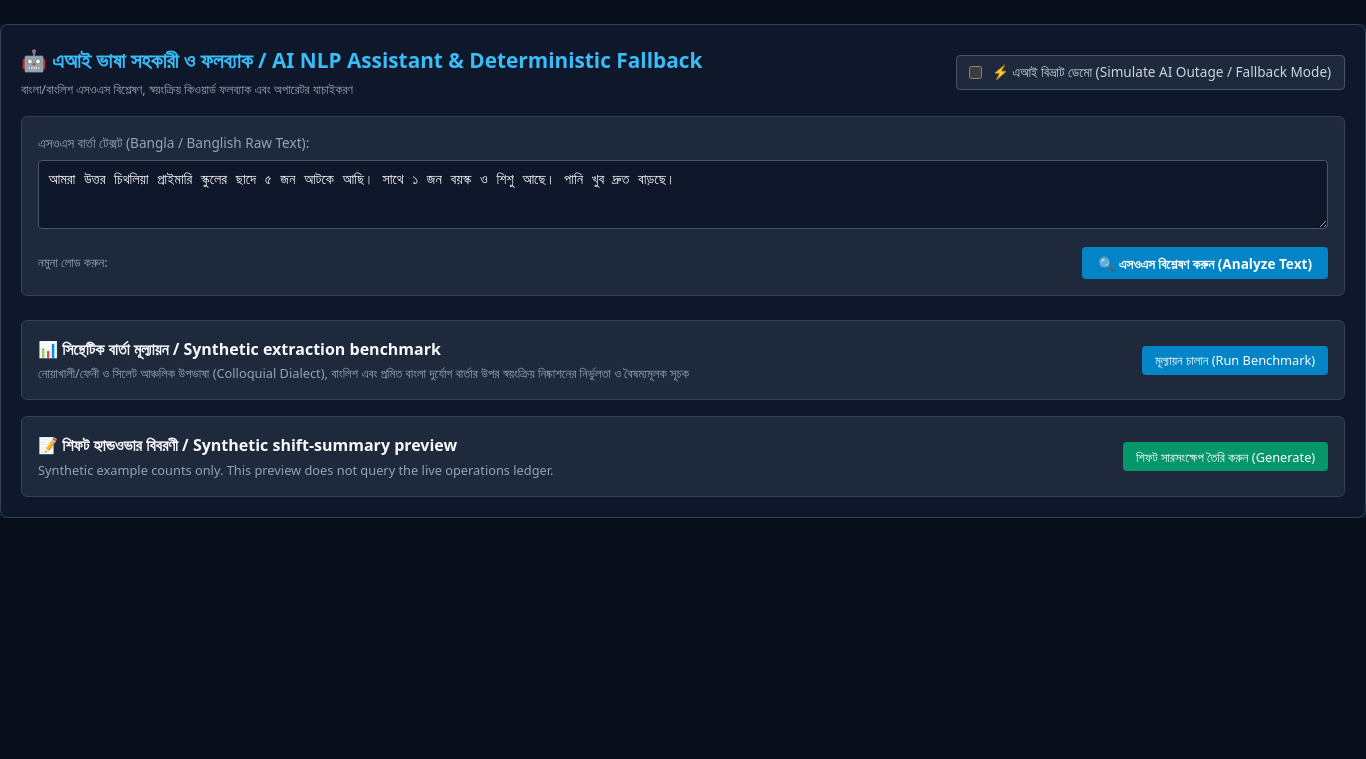
Scenario: AiLanguageAssistant Component › demonstrates deterministic fallback on simulated AI outage
The width and height of the screenshot is (1366, 759).
Click the checkbox labelled "⚡ এআই বিভ্রাট ডেমো (Simulate AI Outage / Fallback Mode)" at point(976, 73), box 969,66 -> 982,79
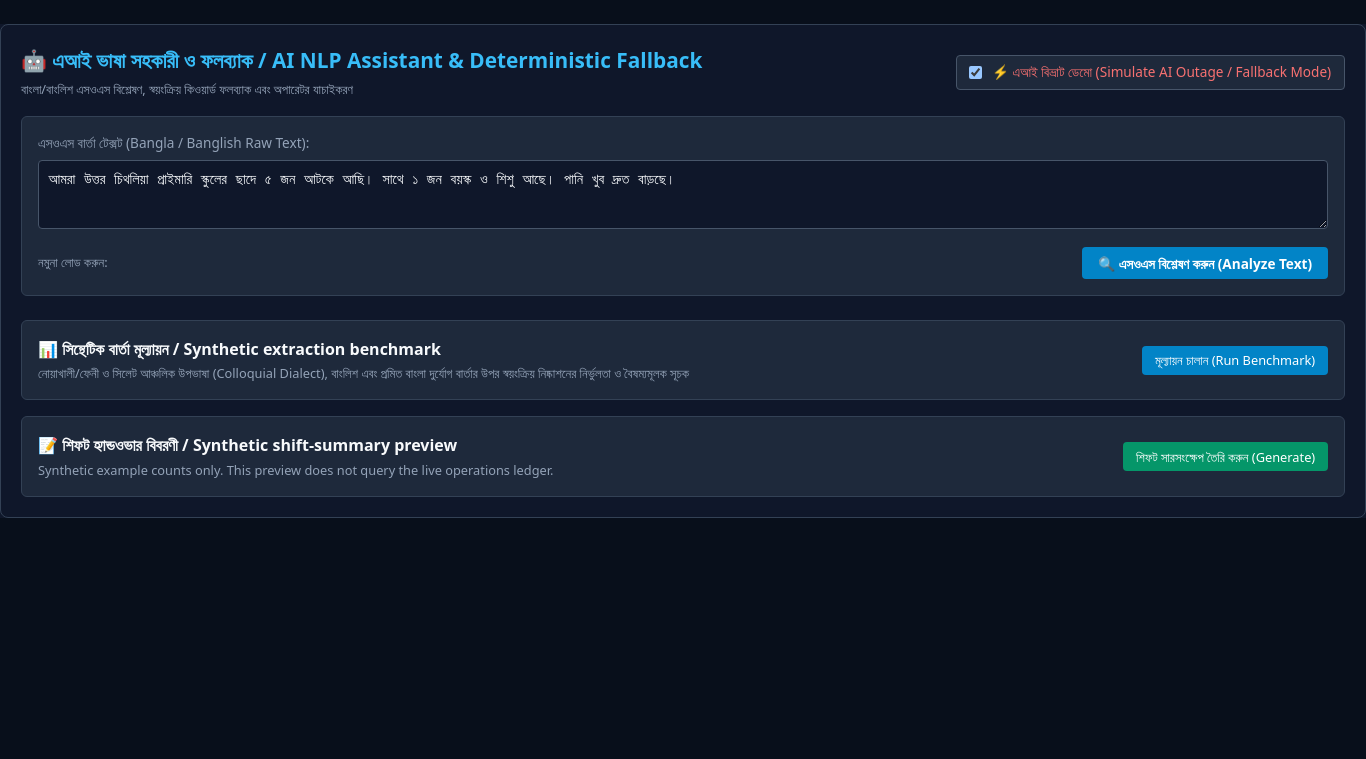
Click the button "🔍 এসওএস বিশ্লেষণ করুন (Analyze Text)" at point(1205, 263), box 1082,247 -> 1328,279
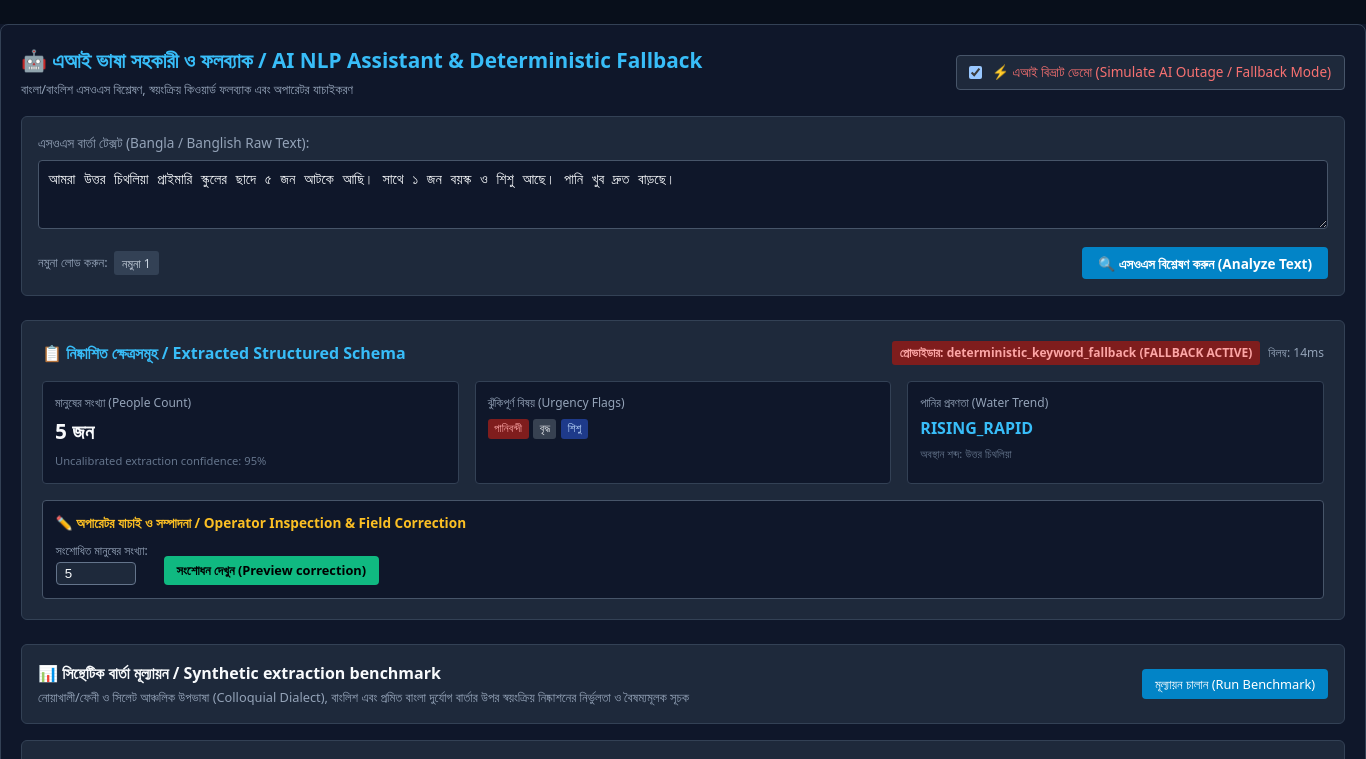
Result: the text "প্রোভাইডার: deterministic_keyword_fallback (FALLBACK ACTIVE)" is shown at 892,341 -> 1260,365
